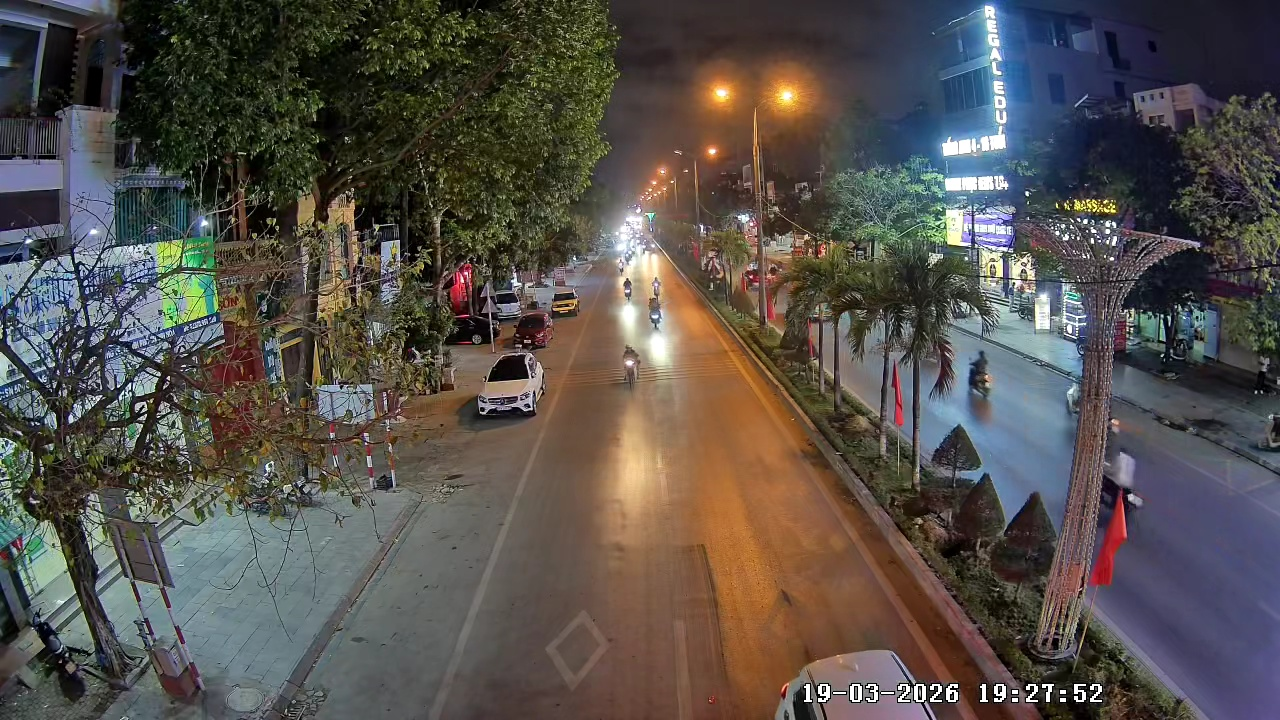car: (475, 349, 548, 418), (513, 308, 552, 349), (551, 282, 581, 317)
motorbike: (964, 347, 994, 416), (620, 339, 641, 388), (646, 284, 665, 330), (618, 277, 634, 303)
